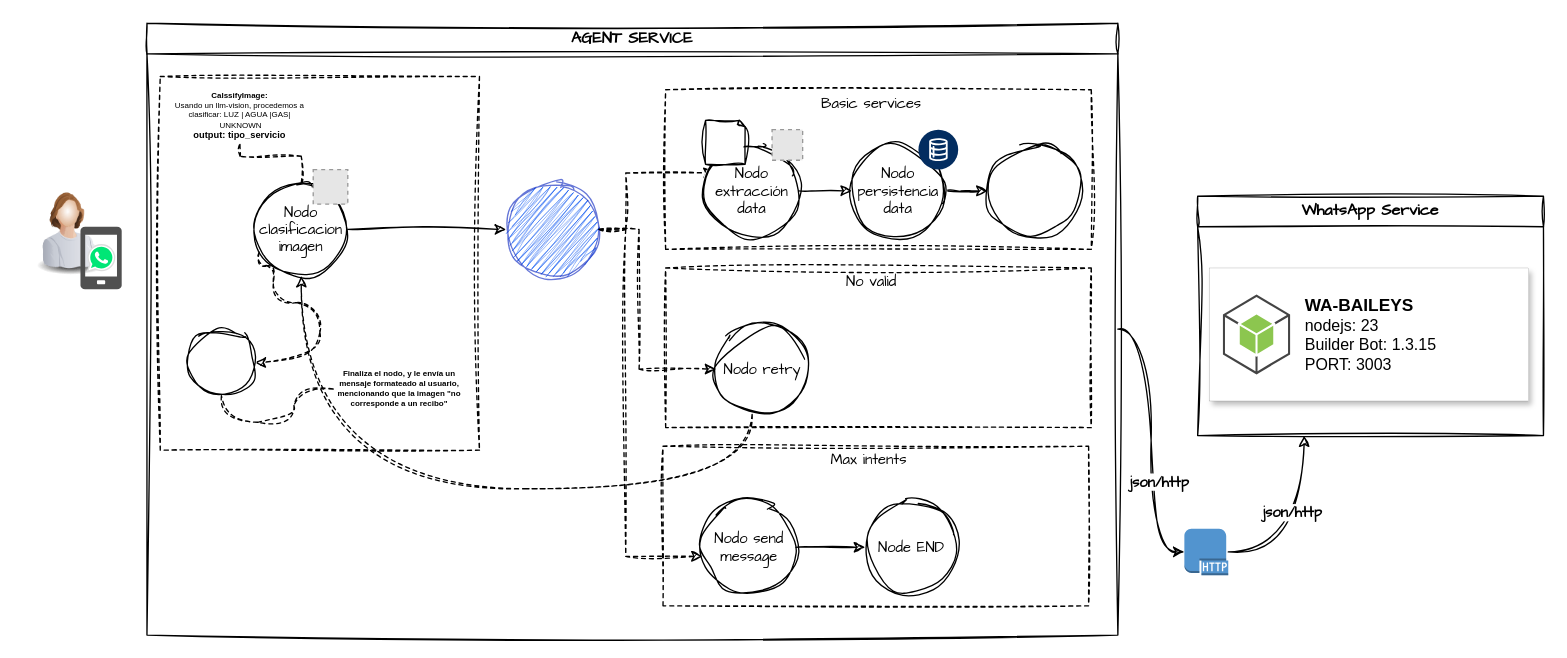
Some shapes in this 1567 by 658 pixel diagram are drawn without their labels. Grey dashed boxes stand in for pictures. The centre of each missing label's shape, as x and y in pixels:
"Condtional edge" goes at (x=552, y=229).
"END" goes at (x=221, y=362).
"Nodo END" goes at (x=1033, y=190).
"Prompt" goes at (x=724, y=141).
